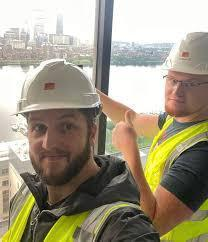helmet: (14, 58, 103, 116), (160, 32, 207, 76)
